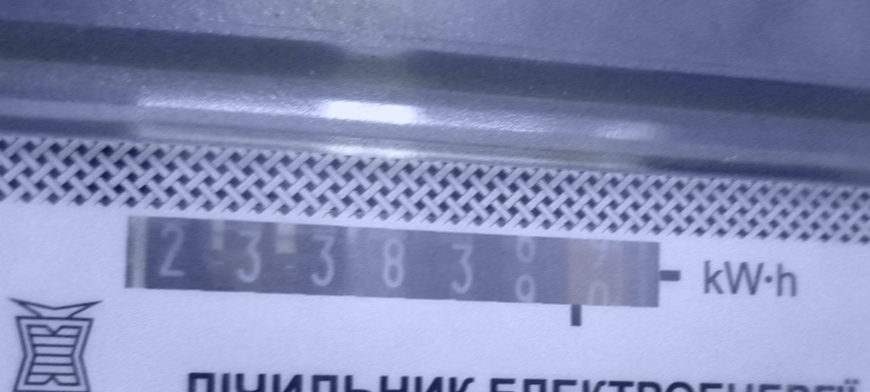0: (584, 277, 610, 311)
2: (152, 219, 191, 279)
3: (303, 227, 339, 290), (234, 225, 262, 283), (447, 237, 476, 293)
8: (375, 231, 409, 290), (512, 231, 539, 263)
9: (582, 233, 612, 272), (511, 269, 539, 306)
screen: (95, 192, 688, 351)
